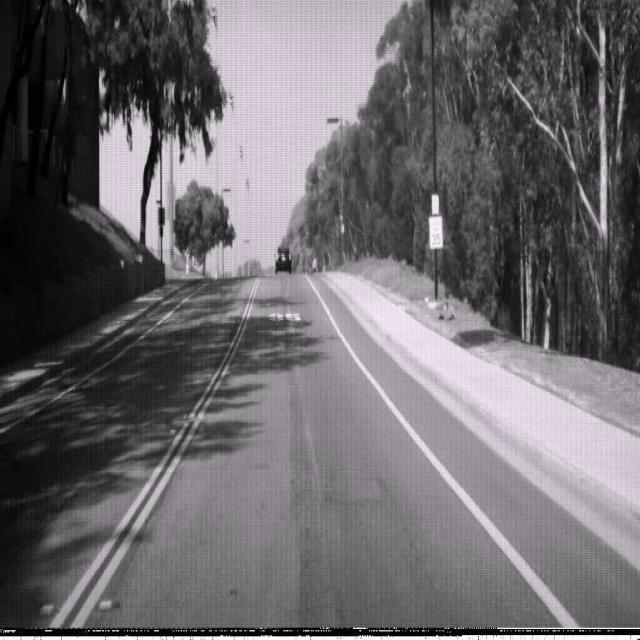speedLimit35: (428, 215, 443, 250)
